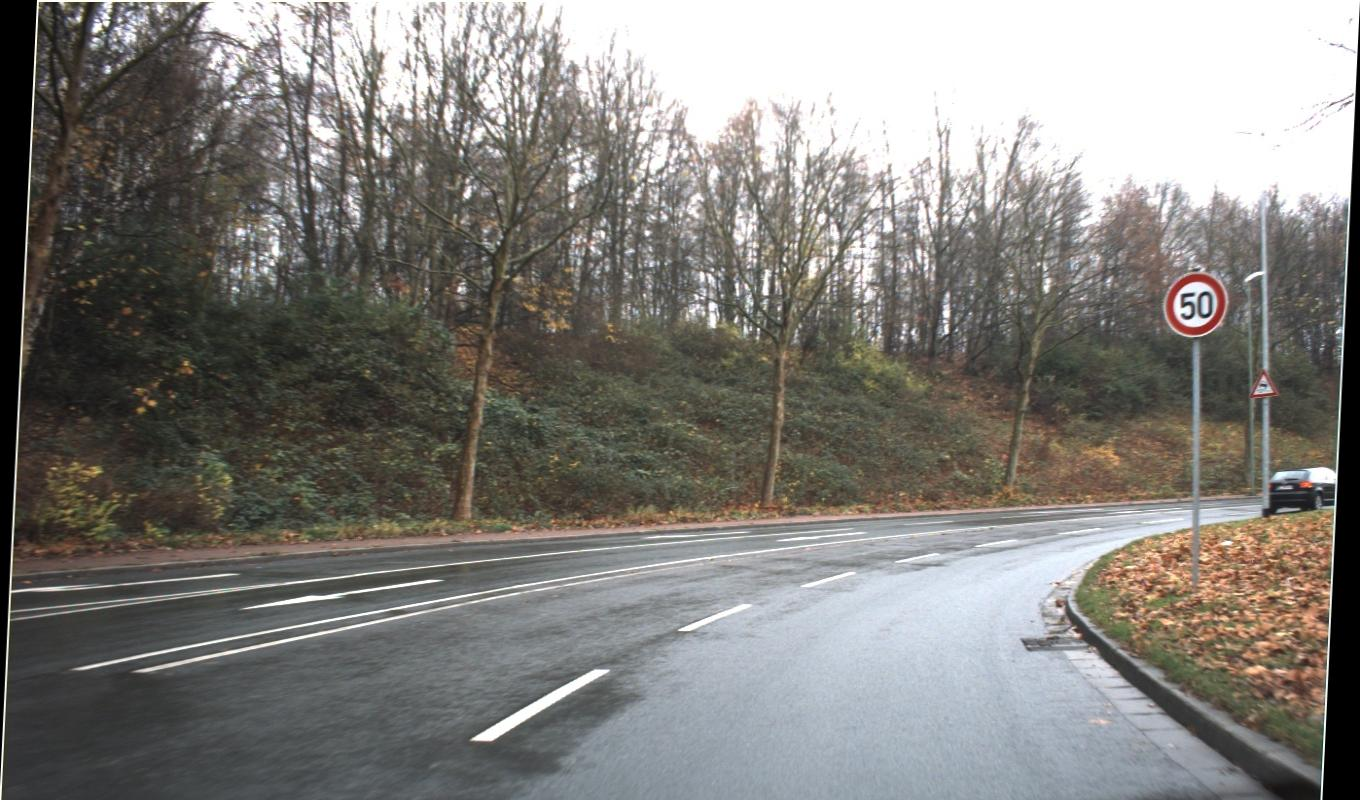speed limit 50: (1161, 270, 1280, 398)
